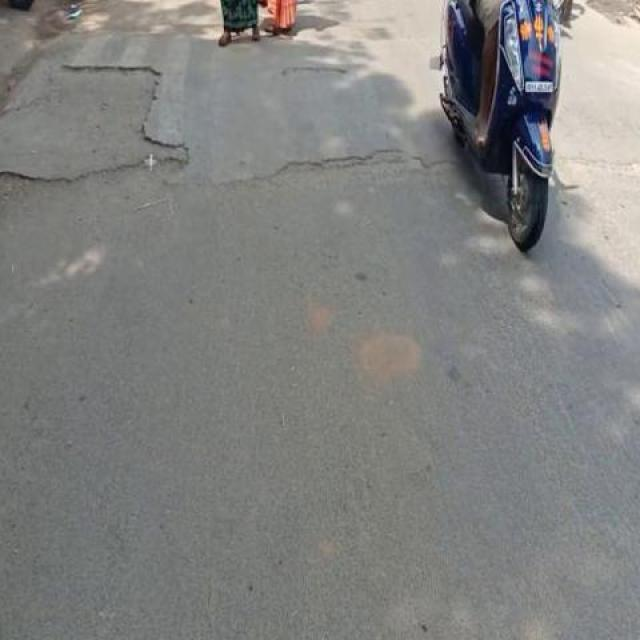Pothole: (2, 56, 198, 181), (223, 149, 466, 184), (269, 61, 364, 84)
Speed Bump: (1, 34, 440, 186), (556, 37, 639, 175)
